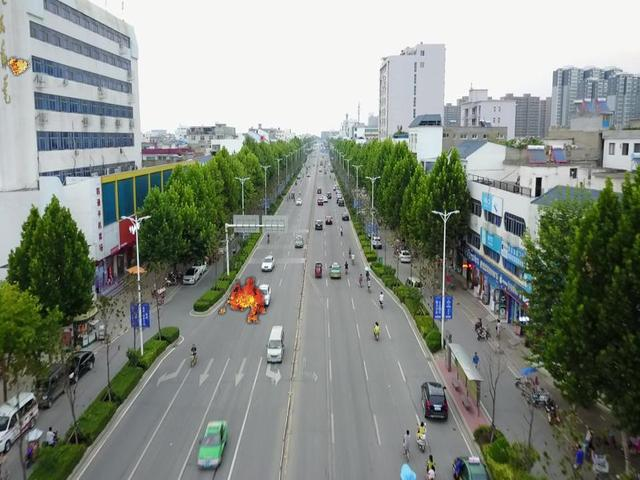fire: (219, 276, 266, 322), (2, 54, 33, 76)
